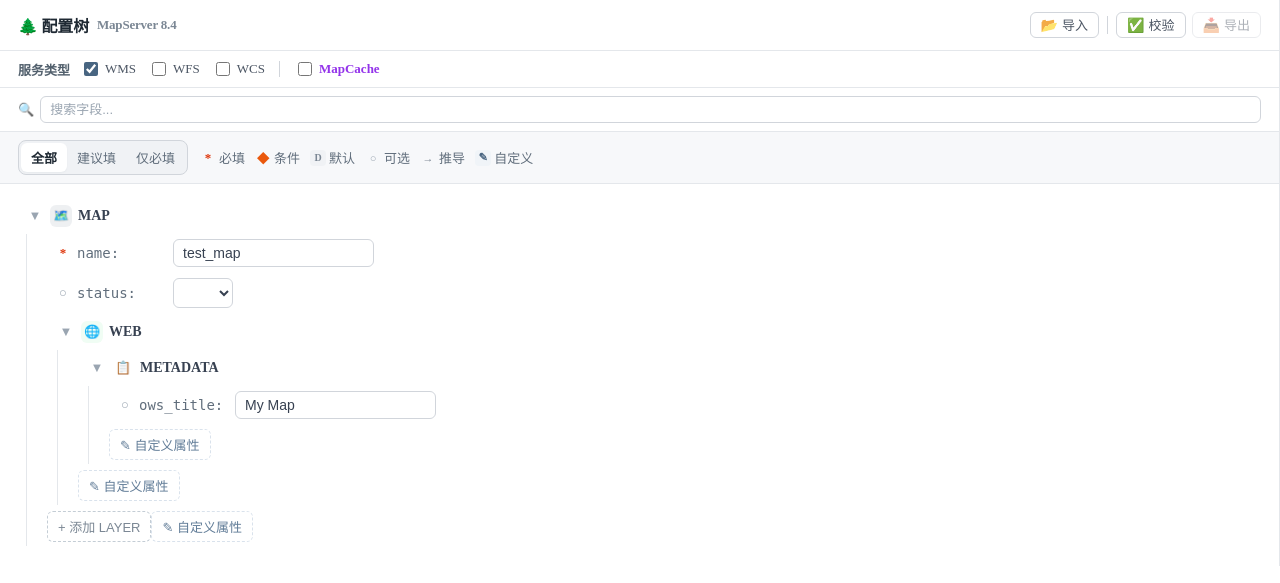
Test: ConfigTreePanel — Search › shows "no match" when query has no matches
Type "xyznonexistent" into the field with class "search-input" at (651, 110), box left=40, top=96, right=1261, bottom=123
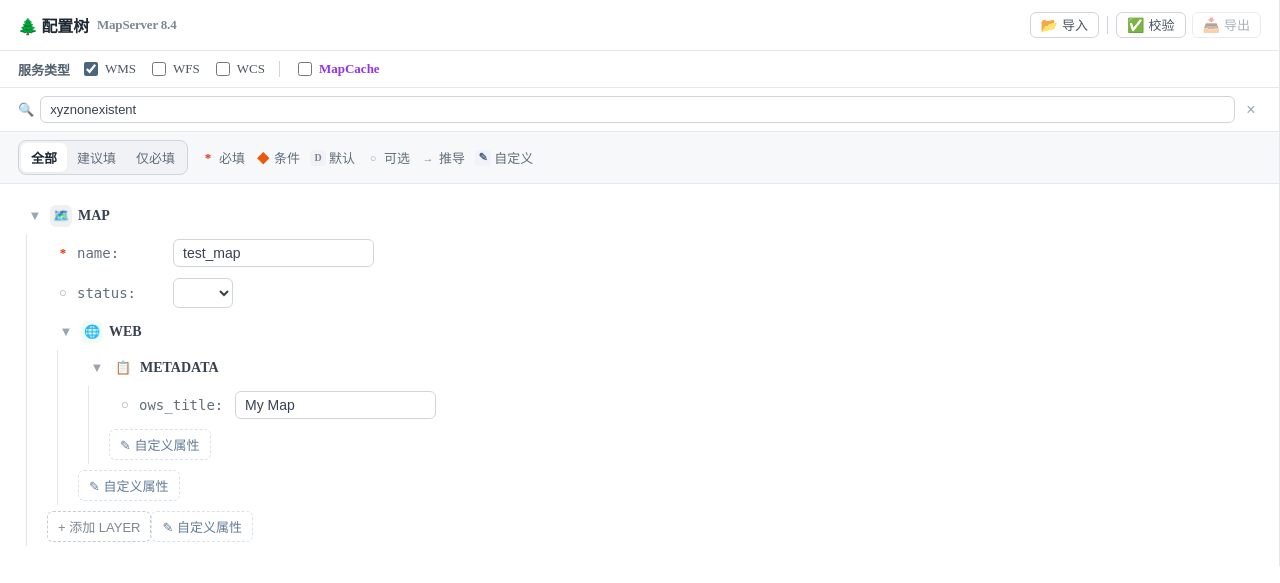
Focus the field with class "search-input" at (638, 110), box left=40, top=96, right=1235, bottom=123
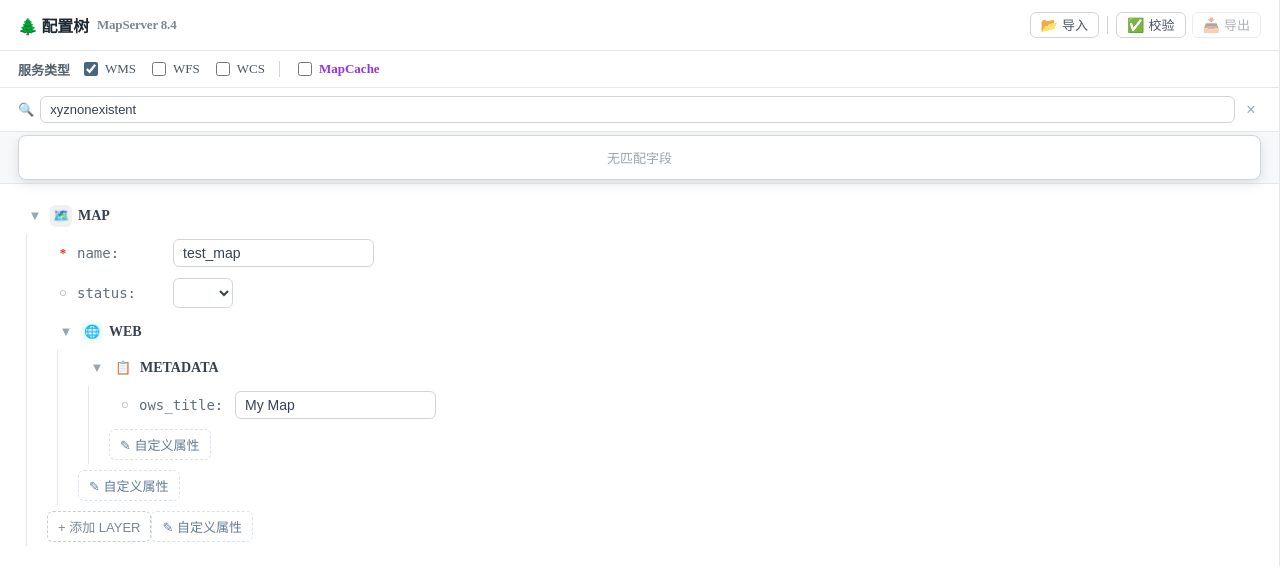
Expected: the text with class "search-empty" reads "无匹配字段", left=607, top=151, right=672, bottom=166
